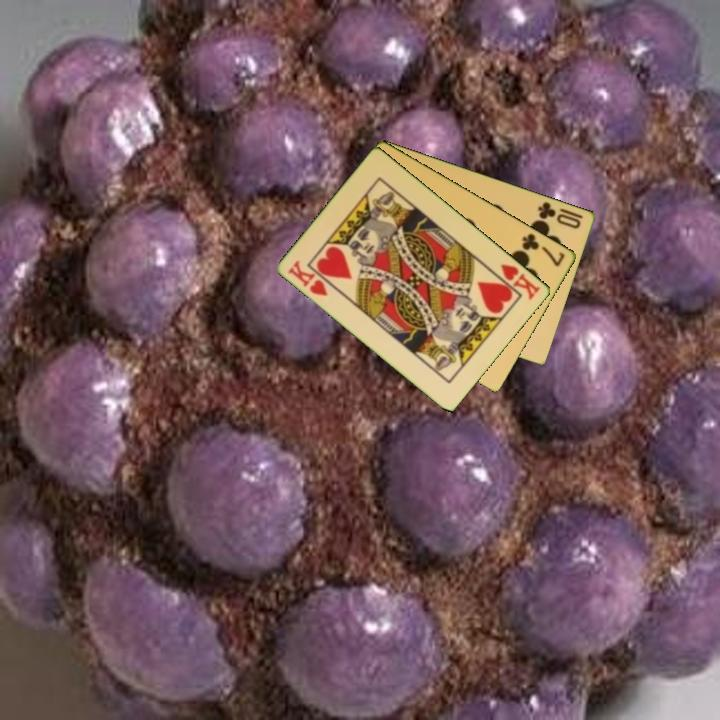10c: (535, 198, 584, 231)
7c: (519, 230, 568, 269)
Kh: (489, 260, 543, 303), (285, 256, 331, 299)
